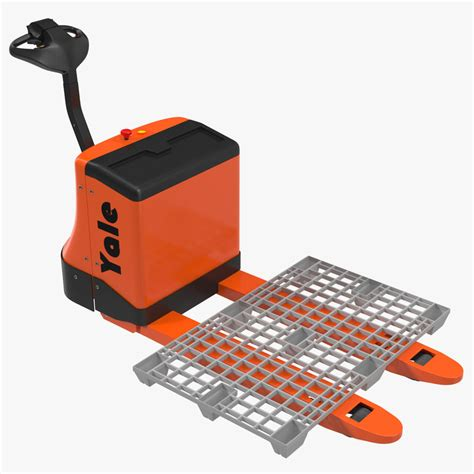Pallet Jack: (8, 18, 465, 445)
